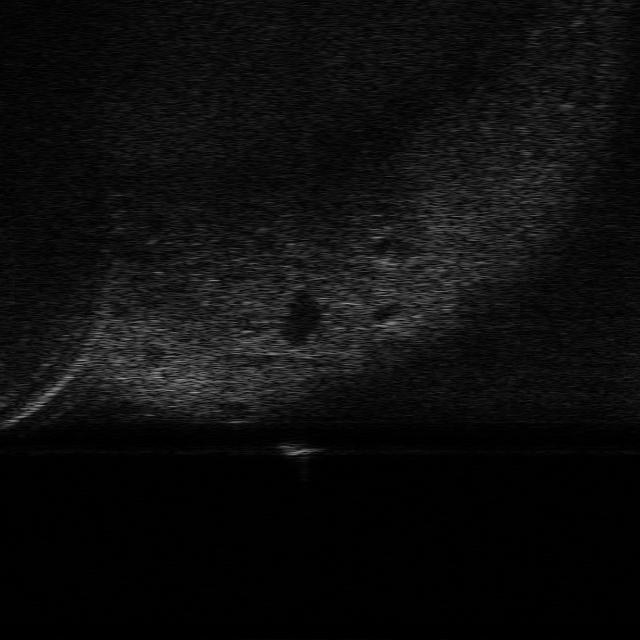cube: (276, 440, 324, 461)
